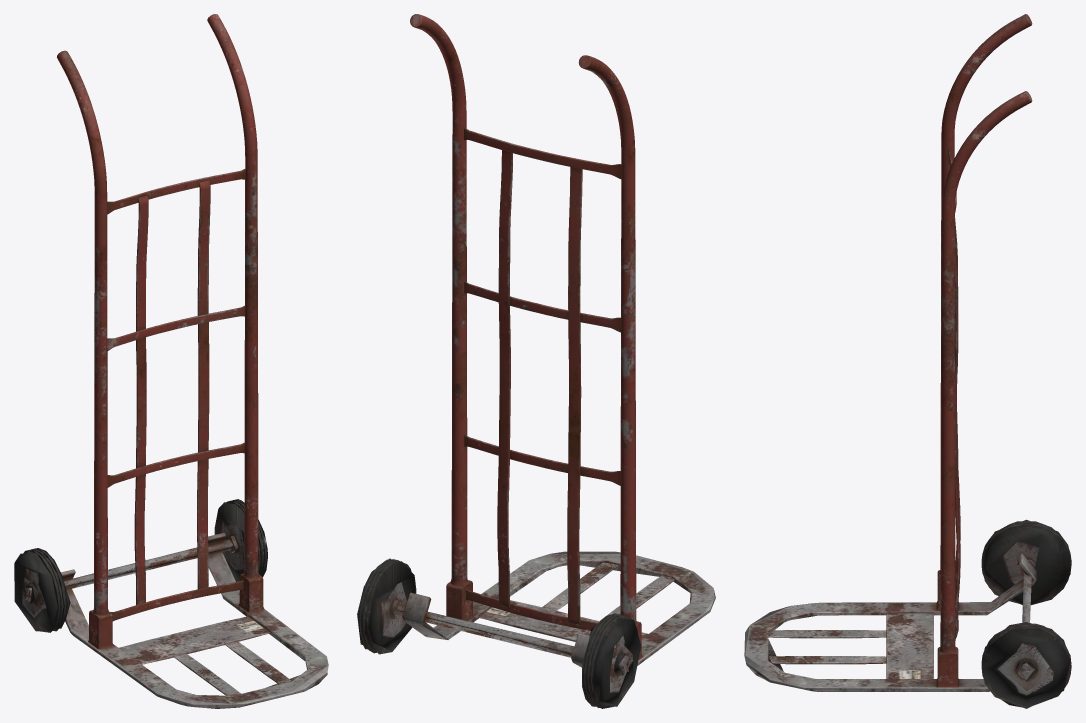
Rendered from handTruck.glb.
The picture shows the model from 3 angles, left to right: view 1: azimuth 30°, elevation 25°; view 2: azimuth 150°, elevation 25°; view 3: azimuth 270°, elevation 25°; orthographic projection. The views are drawn at different scales.
Visible parts, largest first — view 1: hand_truck; view 2: hand_truck; view 3: hand_truck.
Boxes of the visible parts, x1,y1,x2,y2 form: hand_truck: [14, 14, 328, 708]; hand_truck: [357, 14, 715, 708]; hand_truck: [744, 14, 1071, 708].
Size of the model in its own units: 0.5933 by 1.4 by 0.6921.
1 material, 1 textured.
